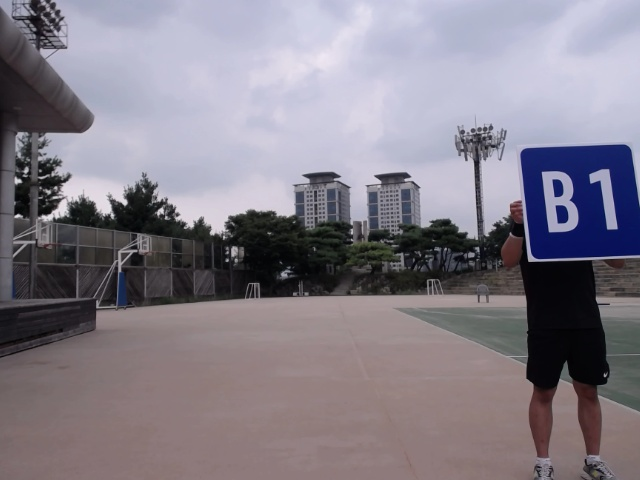delivery_b1: (515, 142, 639, 261)
